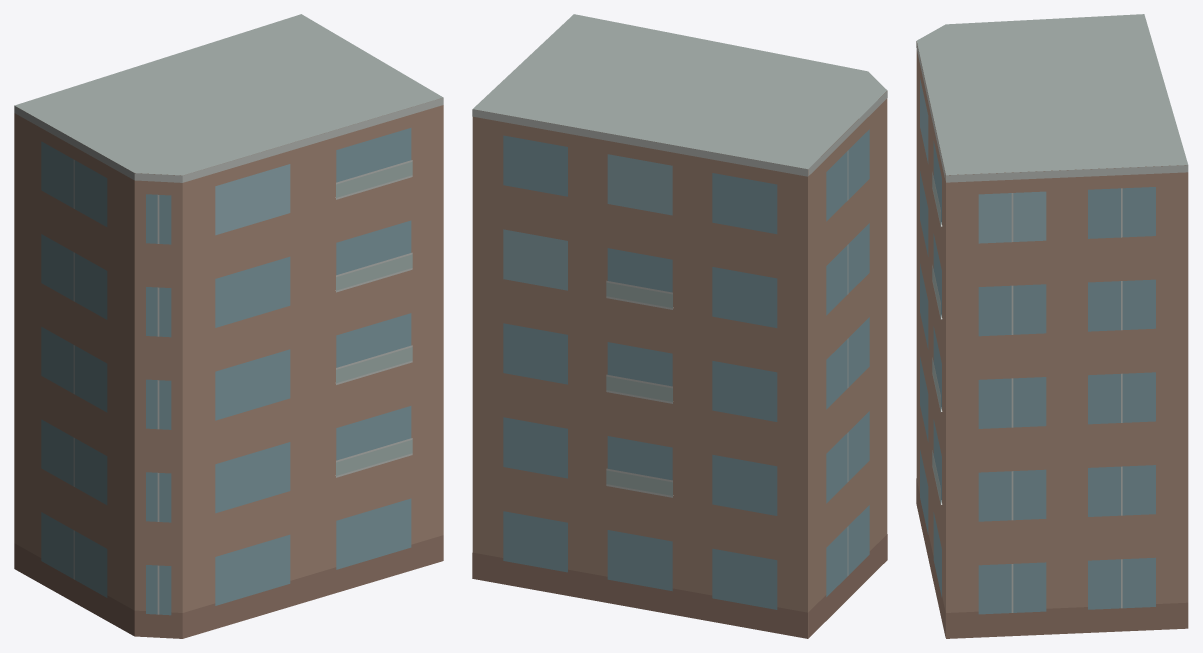
Rendered from survey-upis-32969132.glb.
3 views of the same model, side by side, from view 1: azimuth 30°, elevation 25°; view 2: azimuth 150°, elevation 25°; view 3: azimuth 270°, elevation 25° (orthographic).
Parts seen in each view (by area): view 1: survey-upis-32969132.tmp; view 2: survey-upis-32969132.tmp; view 3: survey-upis-32969132.tmp.
Boxes of the visible parts, left/top/right/bottom form: survey-upis-32969132.tmp: left=14, top=14, right=443, bottom=638; survey-upis-32969132.tmp: left=472, top=14, right=887, bottom=638; survey-upis-32969132.tmp: left=916, top=14, right=1188, bottom=638.
Bounding box in the file's own units: 11.38 × 15.25 × 8.11.
